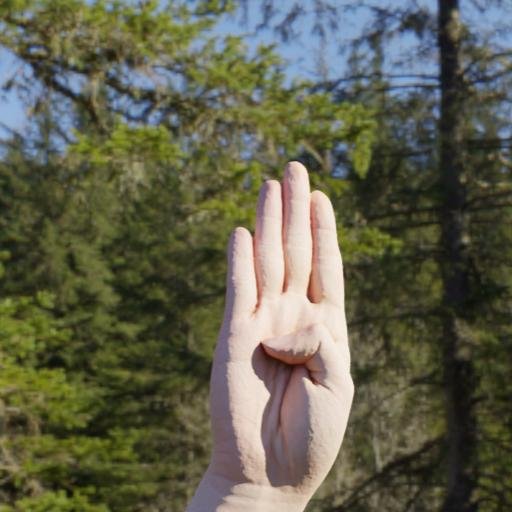B: (206, 157, 358, 502)
